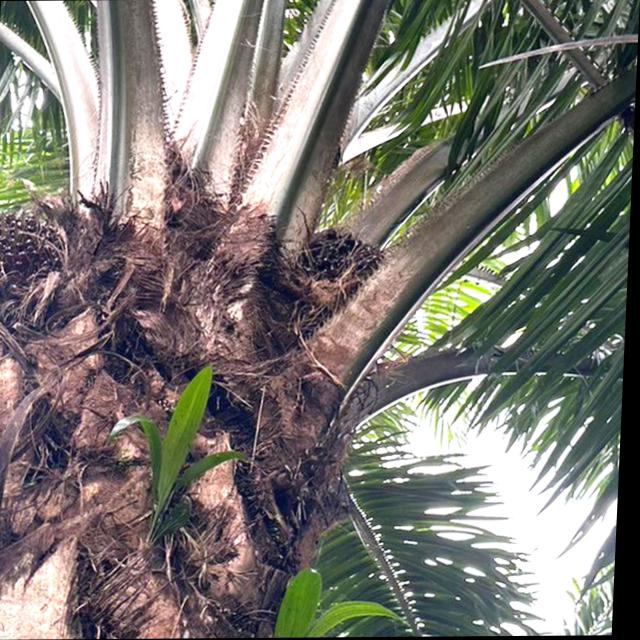unripe: (279, 223, 400, 315)
